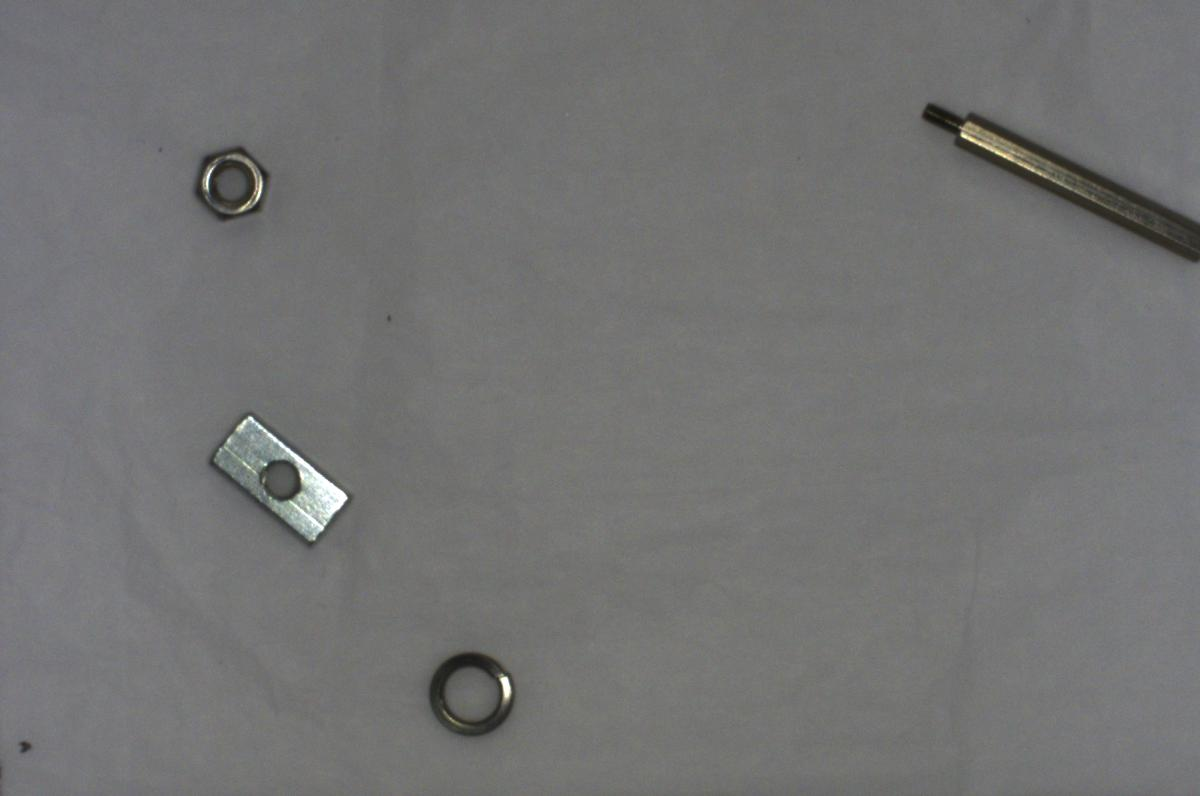Hexagon nut: (185, 140, 279, 227)
Hexagonal steel column: (913, 89, 1199, 287)
Rectangular nut: (195, 407, 359, 550)
Spring washer: (415, 647, 525, 739)
